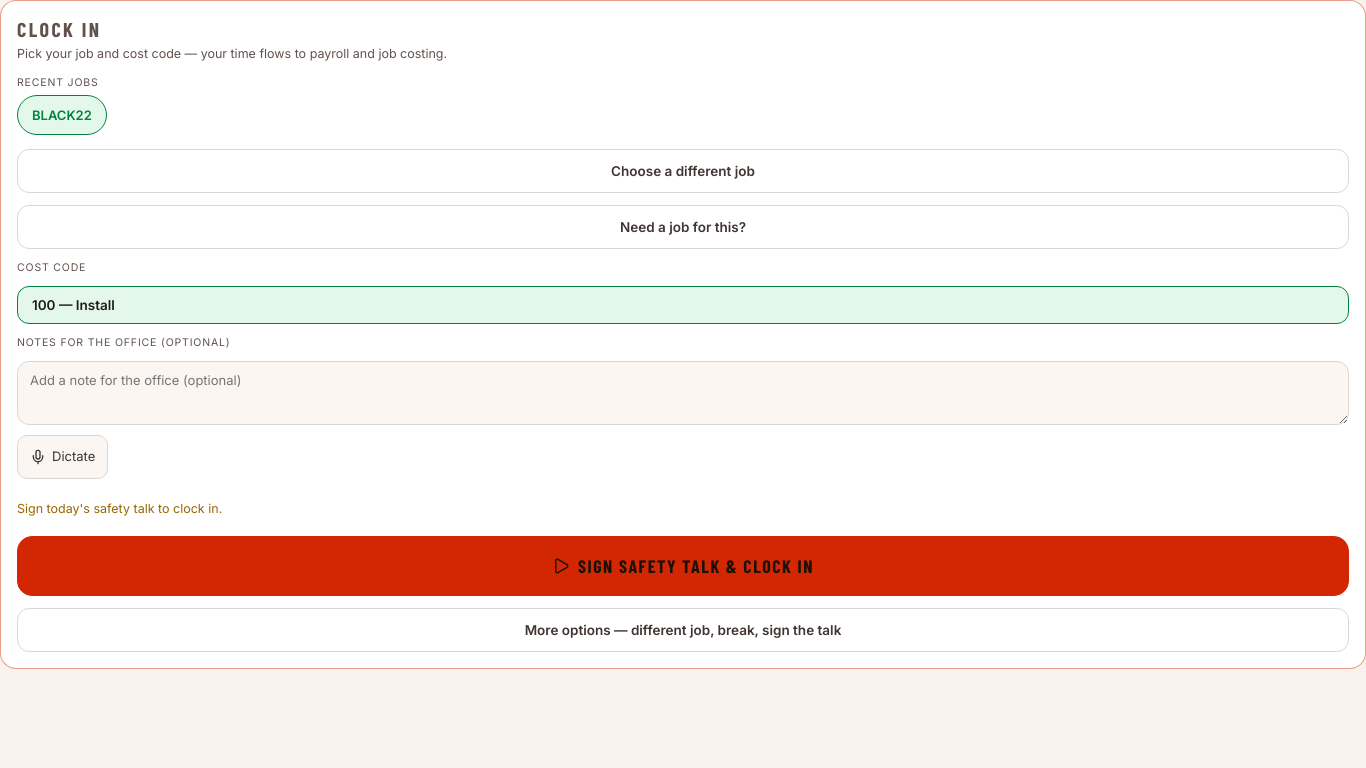
Test: the clock-in block › tapping the held button shows the talk in the block and does not open the sheet
Expected: the text "Today's toolbox talk" is not shown
Click the button with class "big".
click(683, 566)  # box top-left (17, 536), bottom-right (1349, 596)
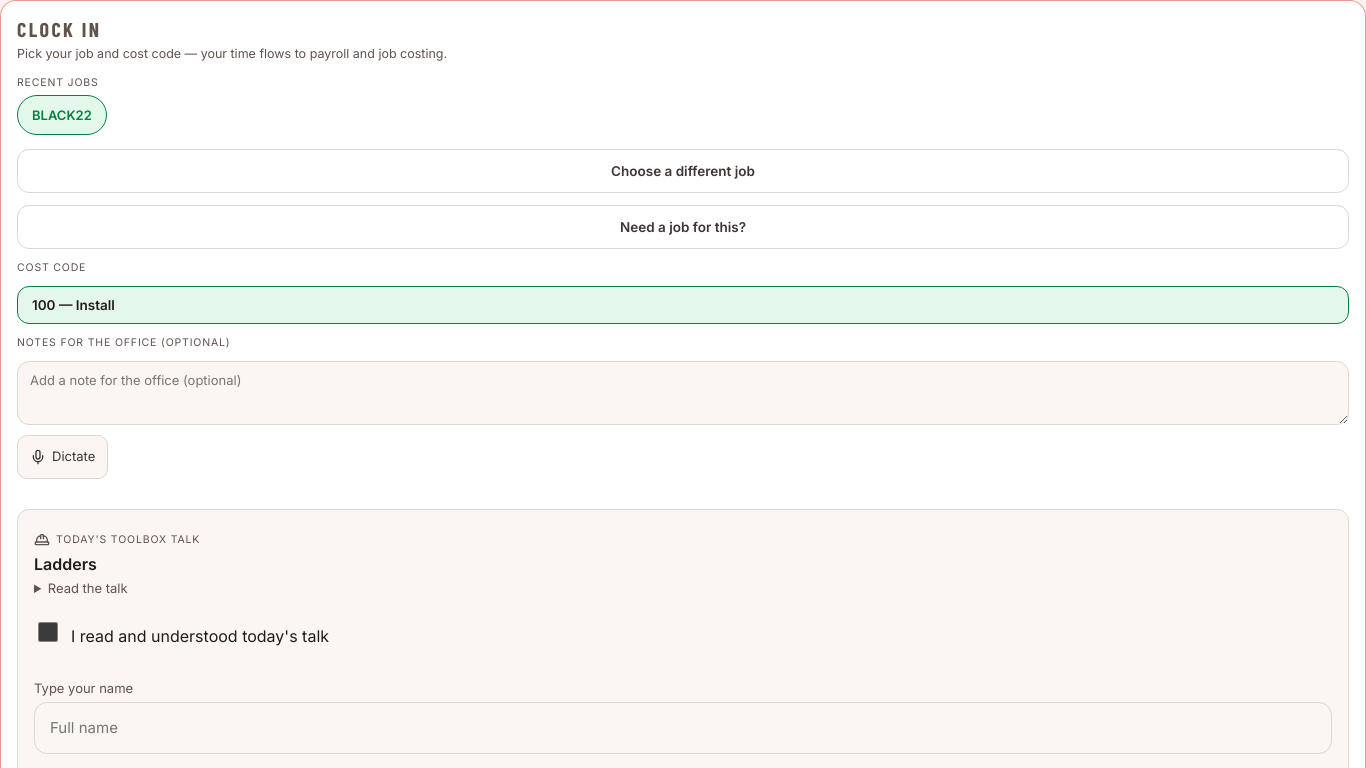
Result: the element with class "clockin-block" shows "Today's toolbox talk" at top-left (56, 533), bottom-right (200, 546)
Result: the text "Ladders" is shown at top-left (34, 554), bottom-right (97, 574)
Result: the text "I read and understood today's talk" is shown at top-left (38, 606), bottom-right (329, 658)
